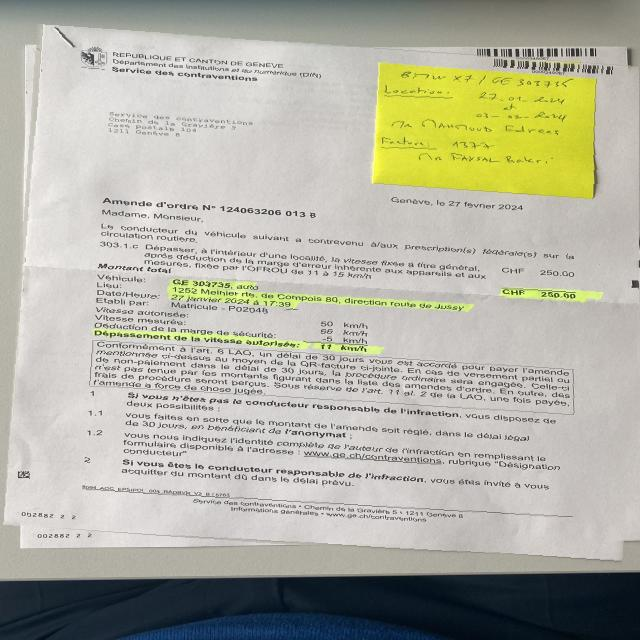paper-document-: (2, 26, 640, 562)
